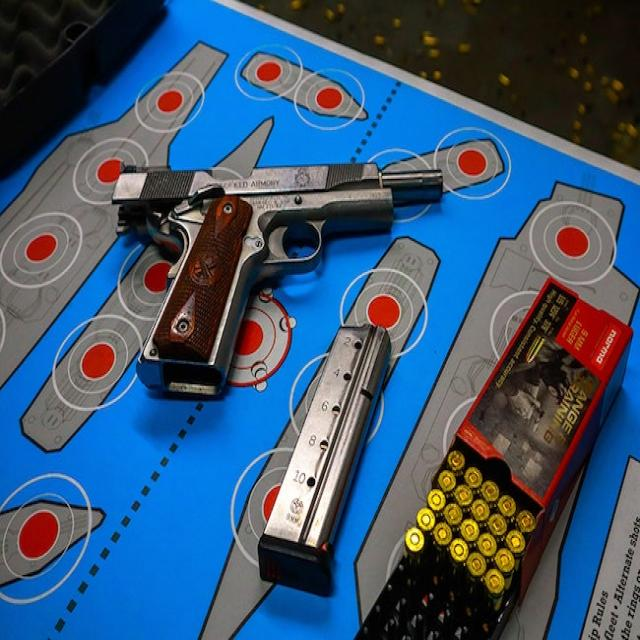HandGun: (113, 163, 439, 396)
